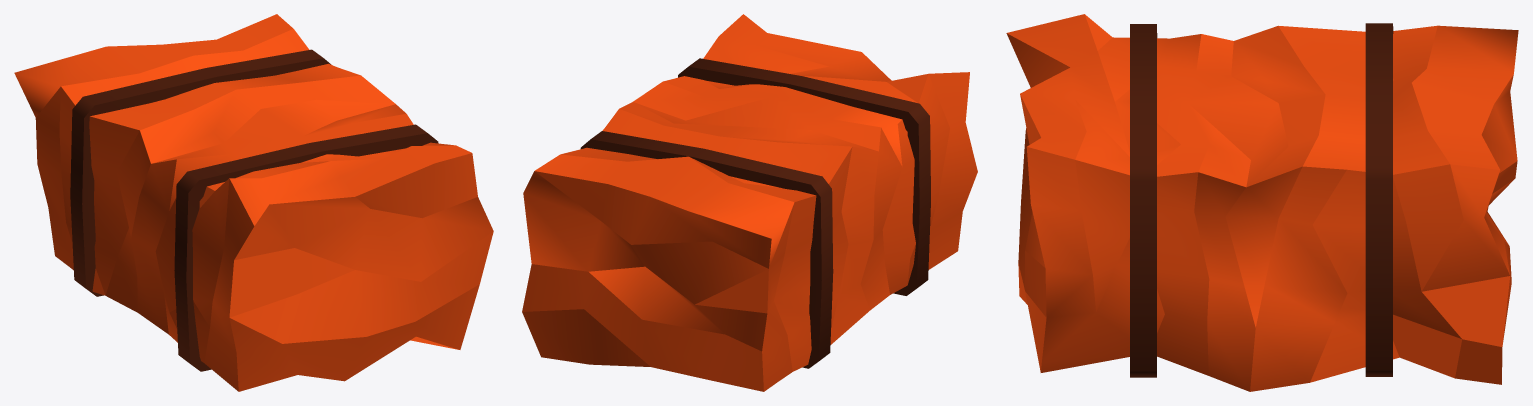
Rendered from Hay_5.fbx.
The picture shows the model from 3 angles, left to right: view 1: azimuth 30°, elevation 25°; view 2: azimuth 150°, elevation 25°; view 3: azimuth 270°, elevation 25°; orthographic projection. The views are drawn at different scales.
Parts seen in each view (by area): view 1: Hay_5; view 2: Hay_5; view 3: Hay_5.
Boxes of the visible parts, left/top/right/bottom form: Hay_5: left=14, top=14, right=493, bottom=391; Hay_5: left=522, top=14, right=977, bottom=391; Hay_5: left=1006, top=14, right=1518, bottom=391.
Size of the model in its own units: 23 by 17.17 by 31.81.
